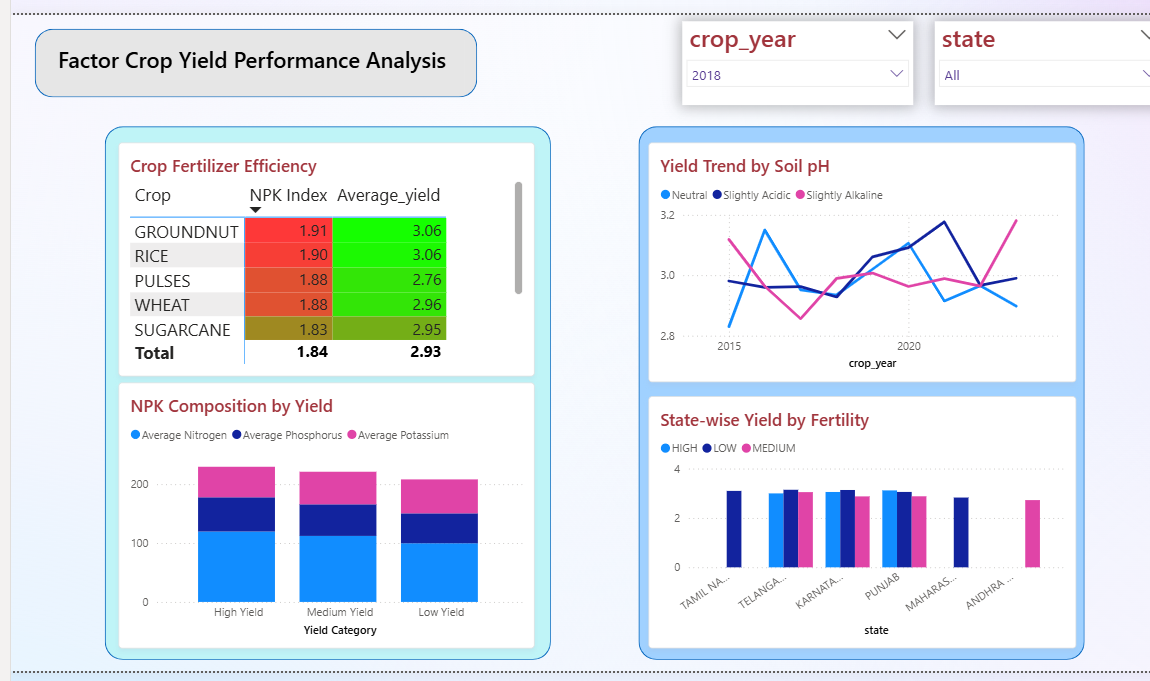

The dashboard page shown, as its layout file describes it:
{"tool":"powerbi","page":{"name":"Agricultural Yield Drivers Analysis","canvas":[1280,720],"ordinal":3},"visuals":[{"type":"shape","box":[688.9,122.1,489.9,585.9],"z":0},{"type":"shape","box":[102.9,122.1,489.9,585.9],"z":1000},{"type":"pivotTable","title":"Crop Fertilizer Efficiency","fields":{"Rows":["gold_fertilizer_efficiency.crop"],"Values":["gold_fertilizer_efficiency.NPK Index","Avg(gold_fertilizer_efficiency.avg_yield)"]},"box":[118,140,456.9,256.6],"z":2000},{"type":"lineClusteredColumnComboChart","title":"State-wise Yield by Fertility","fields":{"Category":["gold_soil_yield_analysis.state"],"Series":["gold_soil_yield_analysis.fertility_level"],"Y":["Avg(gold_soil_yield_analysis.avg_yield)"]},"box":[699.8,418.5,469.3,277.2],"z":3000},{"type":"shape","box":[26.1,15.1,485.8,75.5],"z":4000},{"type":"textbox","box":[46.7,27.4,451.5,54.9],"z":5000},{"type":"columnChart","title":"NPK Composition by Yield","fields":{"Category":["gold_fertilizer_efficiency.Yield Category"],"Y":["gold_fertilizer_efficiency.Average Nitrogen","gold_fertilizer_efficiency.Average Phosphorus","gold_fertilizer_efficiency.Average Potassium"]},"box":[118,403.4,456.9,292.3],"z":6000},{"type":"lineChart","title":"Yield Trend by Soil pH","fields":{"Y":["Avg(gold_soil_yield_analysis.avg_yield)"],"Category":["gold_soil_yield_analysis.crop_year"],"Series":["gold_soil_yield_analysis.pH_Range"]},"box":[699.8,140,469.3,263.5],"z":7000},{"type":"slicer","fields":{"Values":["gold_fertilizer_efficiency.crop_year"]},"box":[736.9,6.9,253.9,91.9],"z":8000},{"type":"slicer","fields":{"Values":["gold_soil_yield_analysis.state"]},"box":[1014.1,6.9,253.9,91.9],"z":9000}]}

Visuals, with their boxes on the page's 1280x720 design canvas (x1, y1, x2, y2). These are canvas units, not pixel positions in the 1150x681 screenshot, which may show the page scaled, cropped or inside an application window:
shape: locate(689, 122, 1179, 708)
shape: locate(103, 122, 593, 708)
"Crop Fertilizer Efficiency" pivotTable: locate(118, 140, 575, 397)
"State-wise Yield by Fertility" lineClusteredColumnComboChart: locate(700, 418, 1169, 696)
shape: locate(26, 15, 512, 91)
textbox: locate(47, 27, 498, 82)
"NPK Composition by Yield" columnChart: locate(118, 403, 575, 696)
"Yield Trend by Soil pH" lineChart: locate(700, 140, 1169, 404)
slicer - gold_fertilizer_efficiency.crop_year: locate(737, 7, 991, 99)
slicer - gold_soil_yield_analysis.state: locate(1014, 7, 1268, 99)
